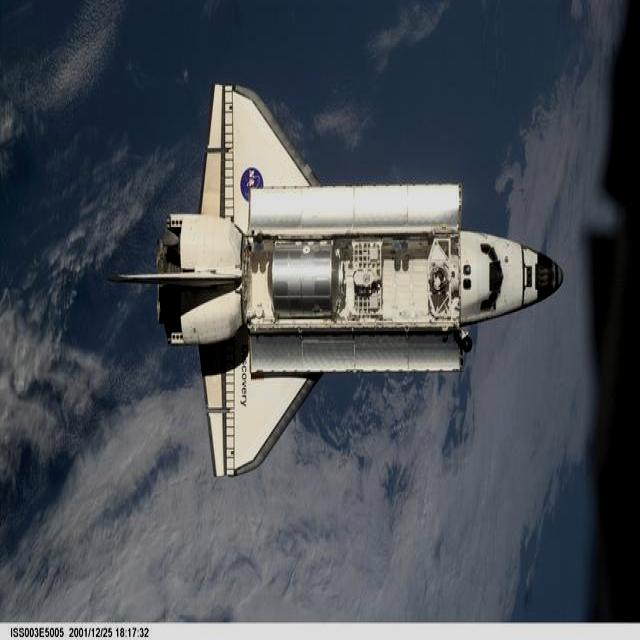medium_debris: (112, 84, 562, 475)
